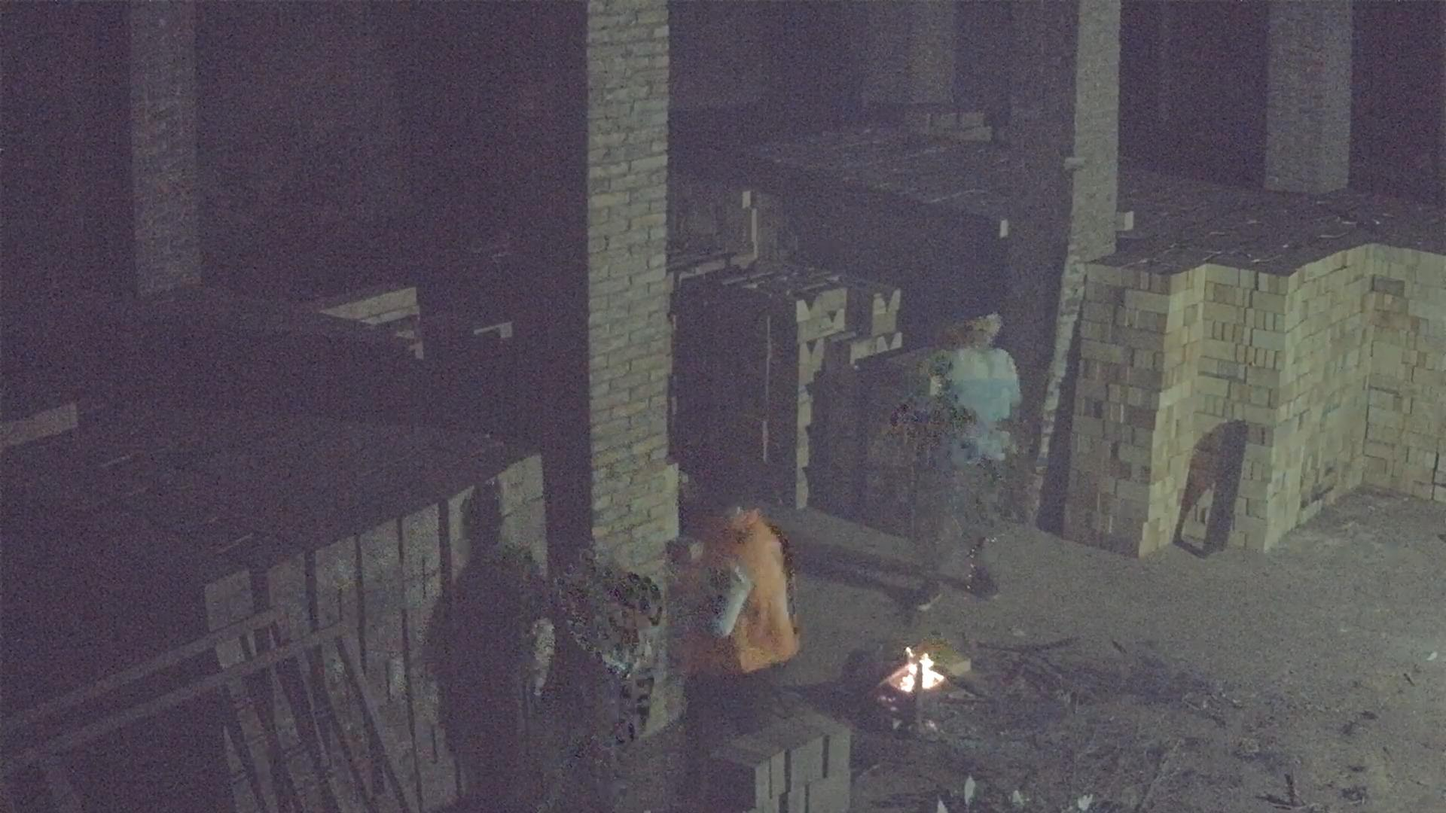fire: (879, 649, 946, 704)
